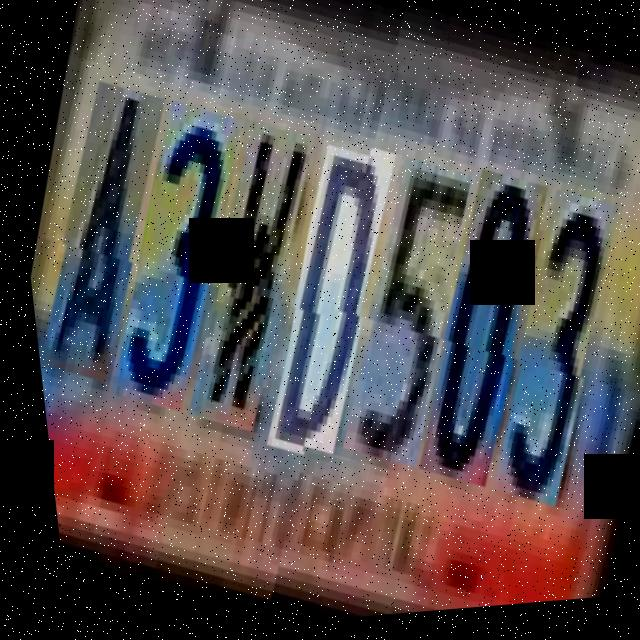3: (81, 96, 273, 420), (457, 192, 640, 523)
5: (311, 161, 502, 484)
A: (10, 76, 194, 390)
D: (234, 139, 425, 471)
O: (384, 172, 575, 504)
W: (159, 118, 341, 439)
